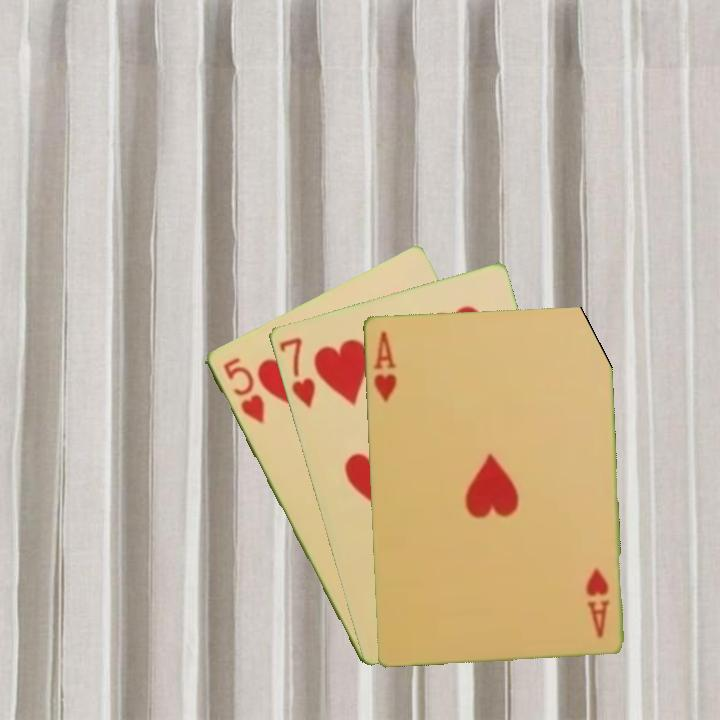5h: (219, 353, 267, 427)
7h: (275, 333, 318, 411)
Ah: (369, 328, 399, 404), (583, 563, 612, 640)
